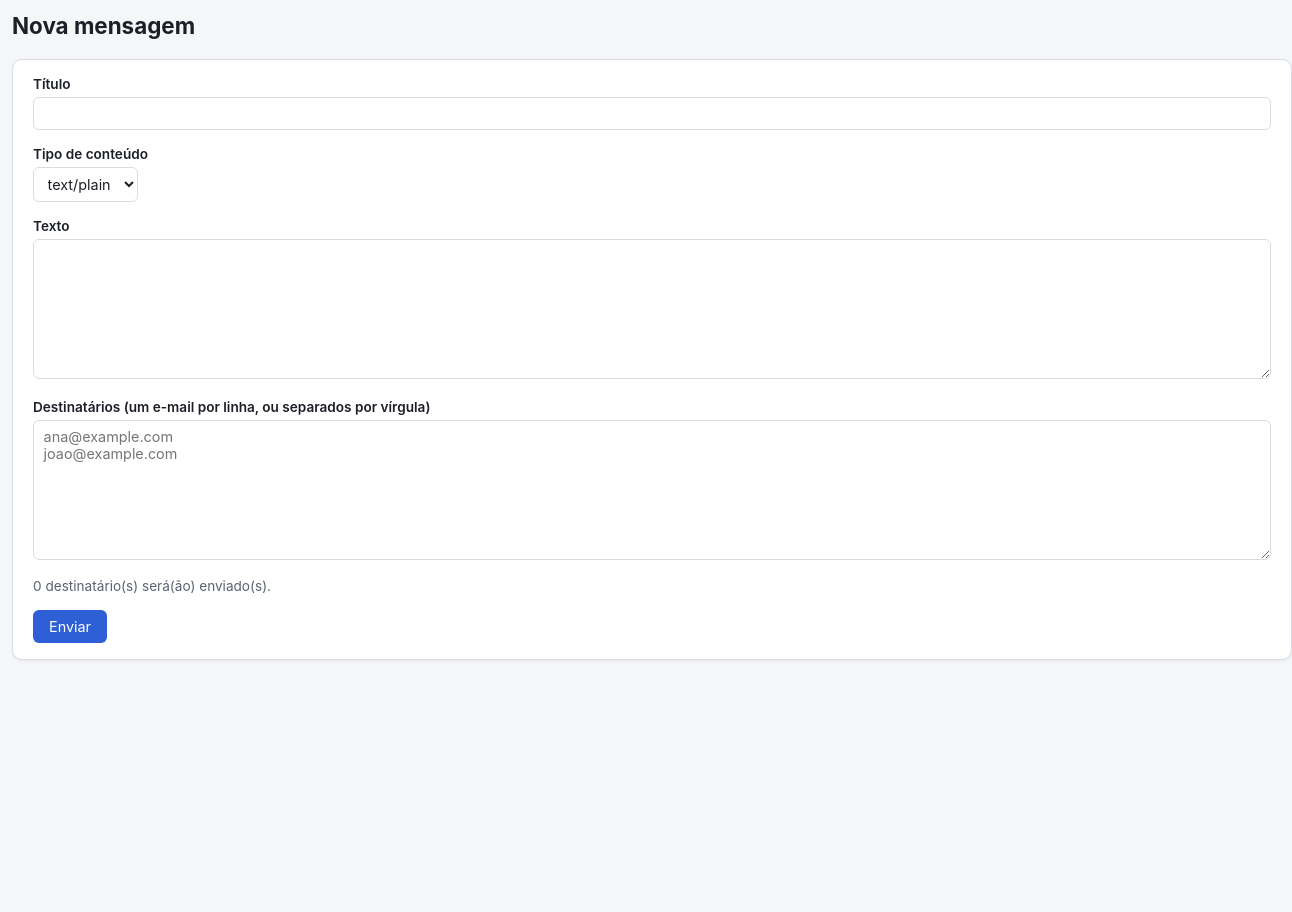
Test case: Compose page › clears title and text after success, but preserves contentType
Type "Test" into the field labelled "Título" at (652, 114), box left=33, top=97, right=1271, bottom=130
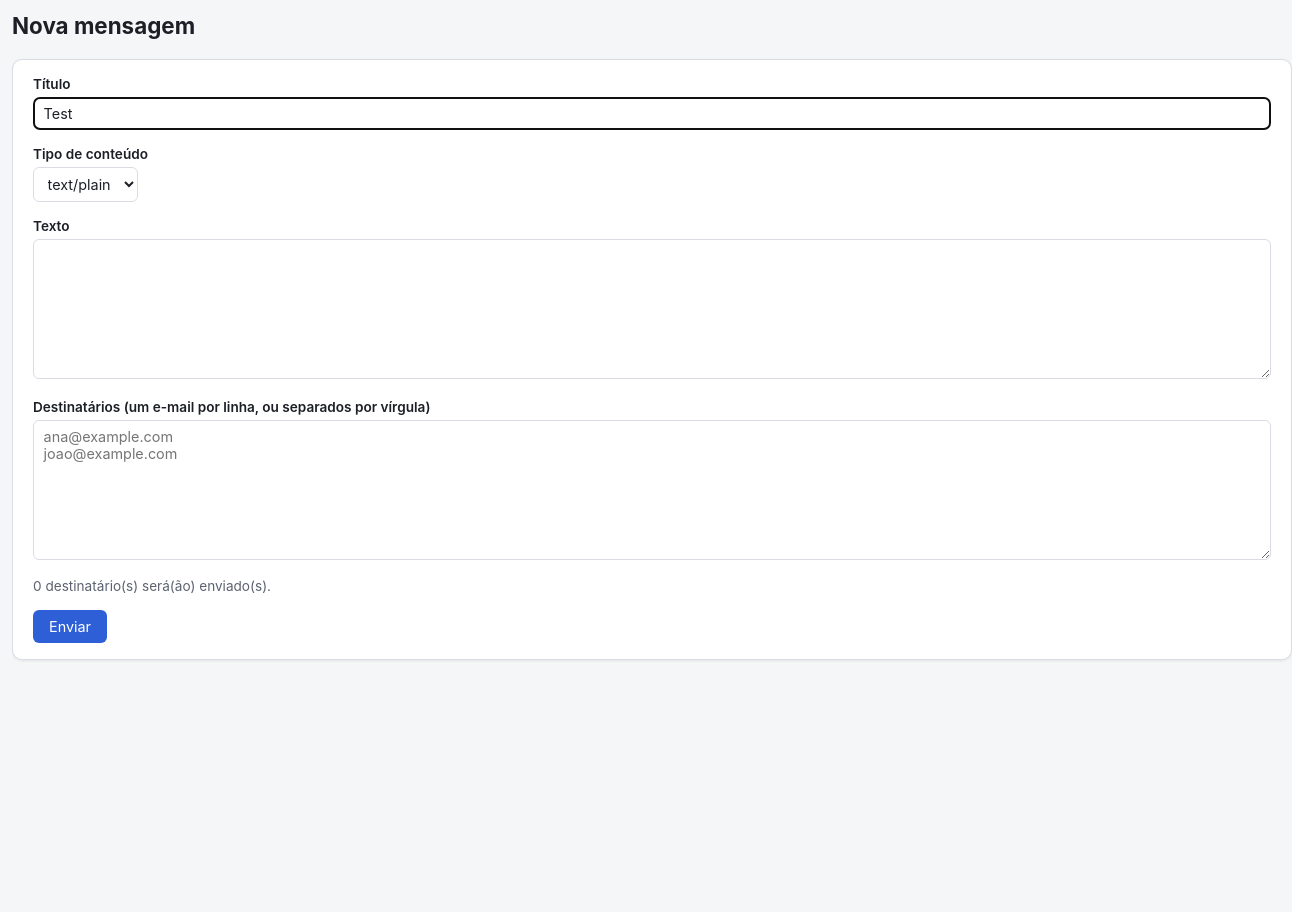
Type "Body" into the text box labelled "Texto" at (652, 309), box left=33, top=239, right=1271, bottom=379
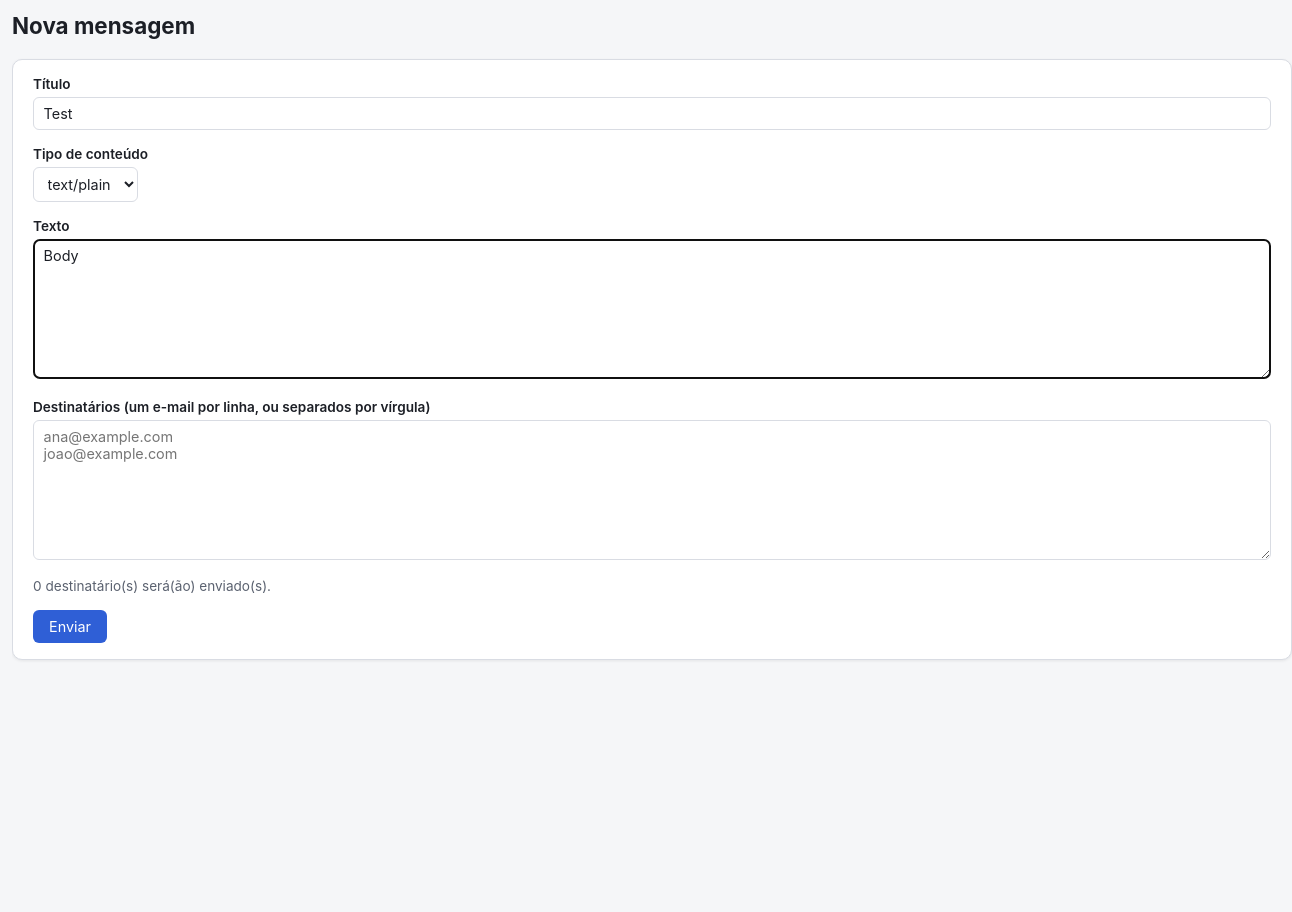
Type "alice@example.com" into the text box labelled "Destinatários" at (652, 490), box left=33, top=420, right=1271, bottom=560
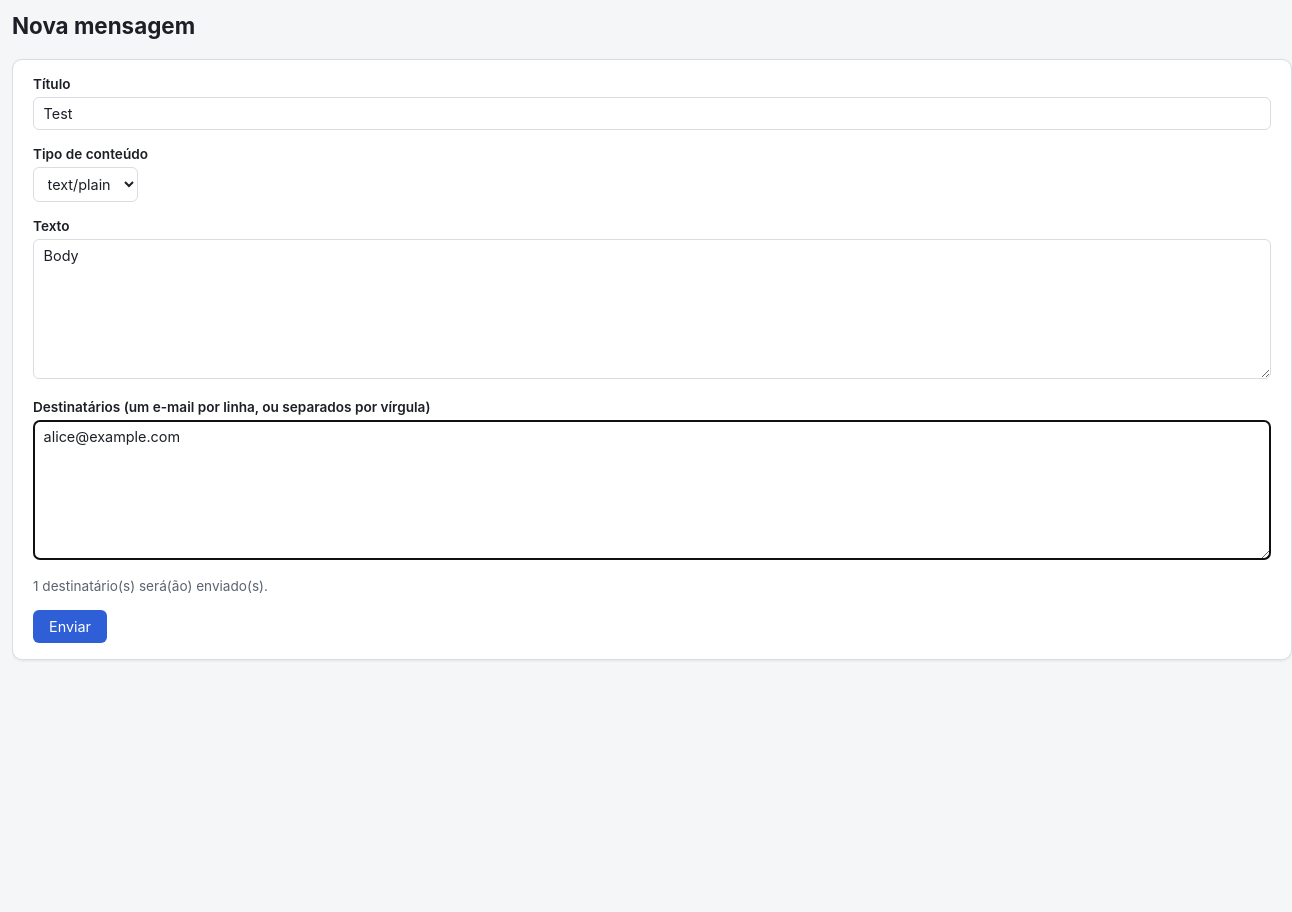
Click the button "Enviar" at (70, 626), box left=33, top=610, right=107, bottom=642
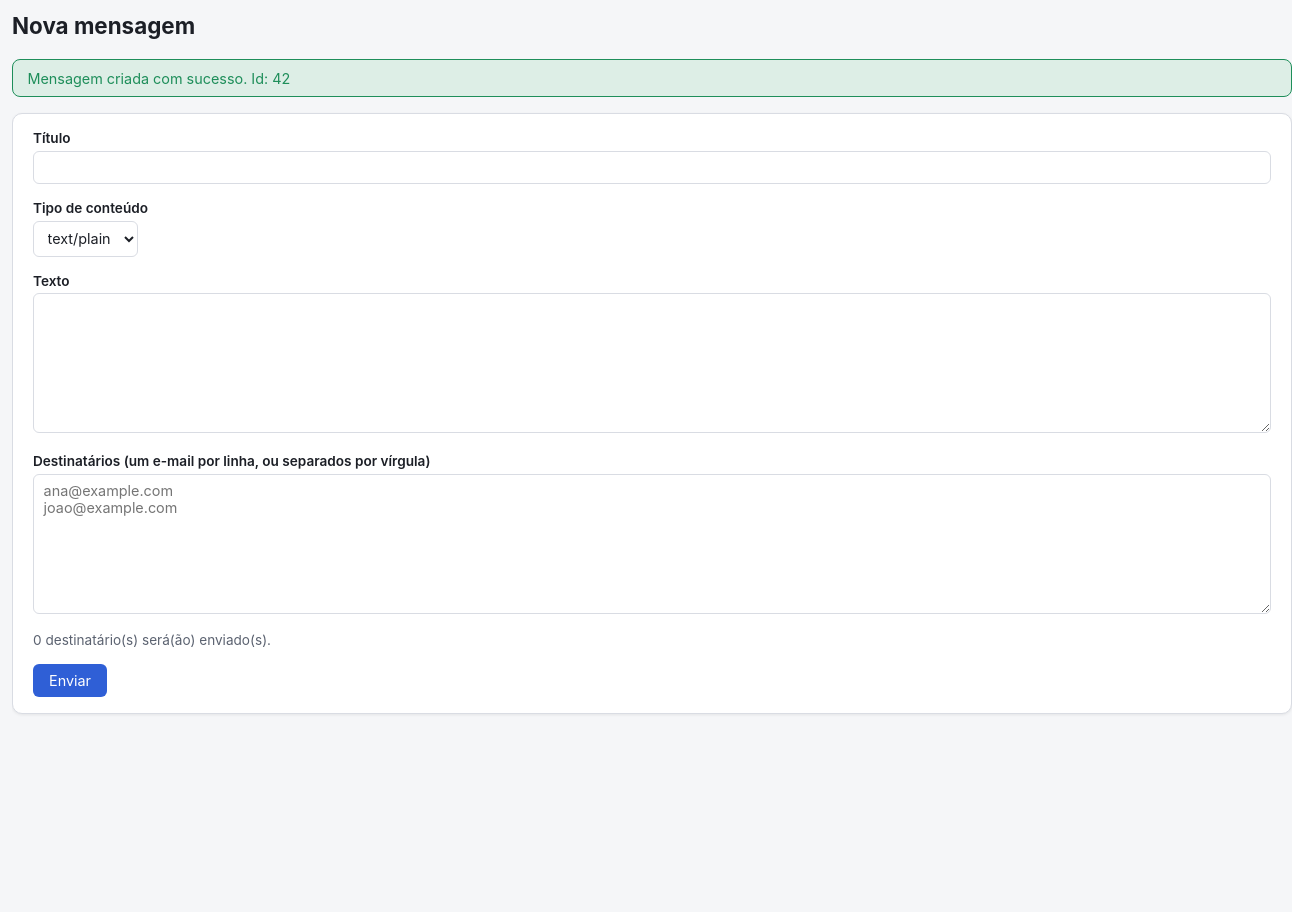
Expected: the text "Mensagem criada com sucesso. Id: 42" is shown, left=12, top=59, right=1291, bottom=97
Expected: the field labelled "Título" is empty, left=33, top=151, right=1271, bottom=184
Expected: the text box labelled "Texto" is empty, left=33, top=293, right=1271, bottom=433
